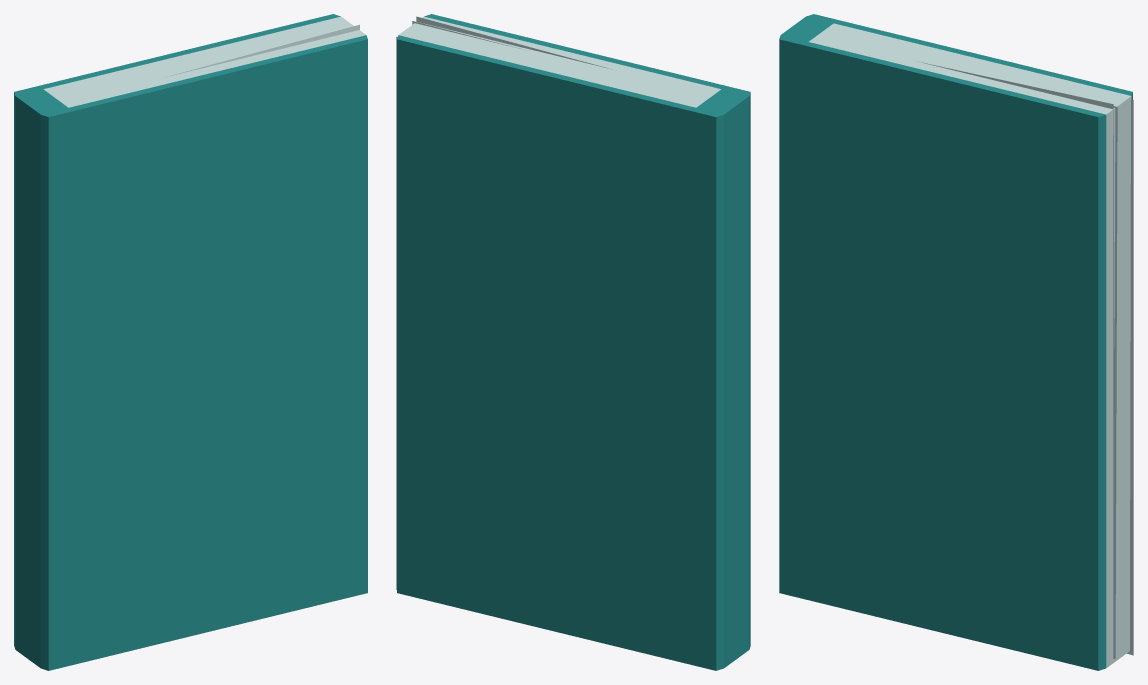
The model's file is SM_Hardbook.FBX.
The picture shows the model from 3 angles, left to right: view 1: azimuth 30°, elevation 25°; view 2: azimuth 150°, elevation 25°; view 3: azimuth 330°, elevation 25°; orthographic projection.
Visible parts, largest first — view 1: SM_Hardbook; view 2: SM_Hardbook; view 3: SM_Hardbook.
Boxes of the visible parts, left/top/right/bottom form: SM_Hardbook: left=14, top=14, right=367, bottom=670; SM_Hardbook: left=396, top=14, right=750, bottom=670; SM_Hardbook: left=779, top=14, right=1133, bottom=670.
Size of what is drawn, in the model's own units: 202 by 330 by 36.74.
